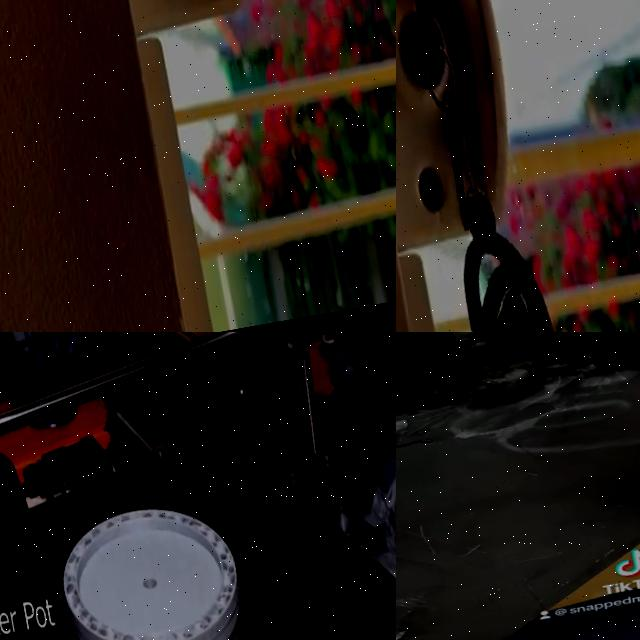spaghetti: (396, 332, 485, 424)
